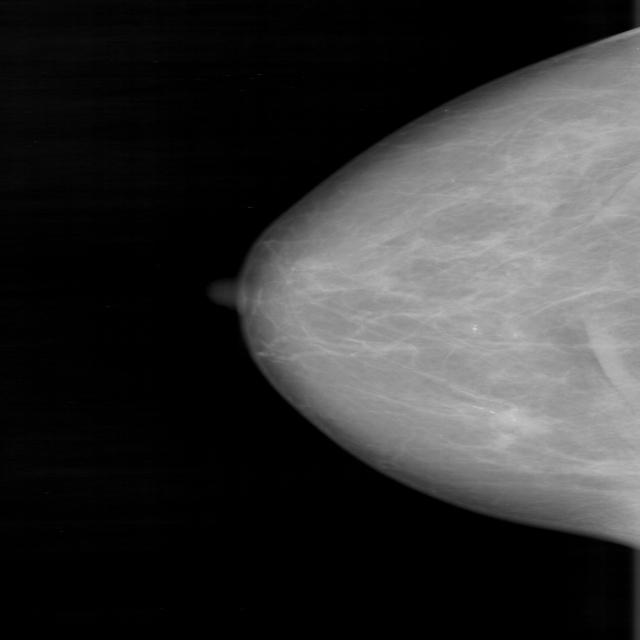normal: (237, 10, 640, 544)
